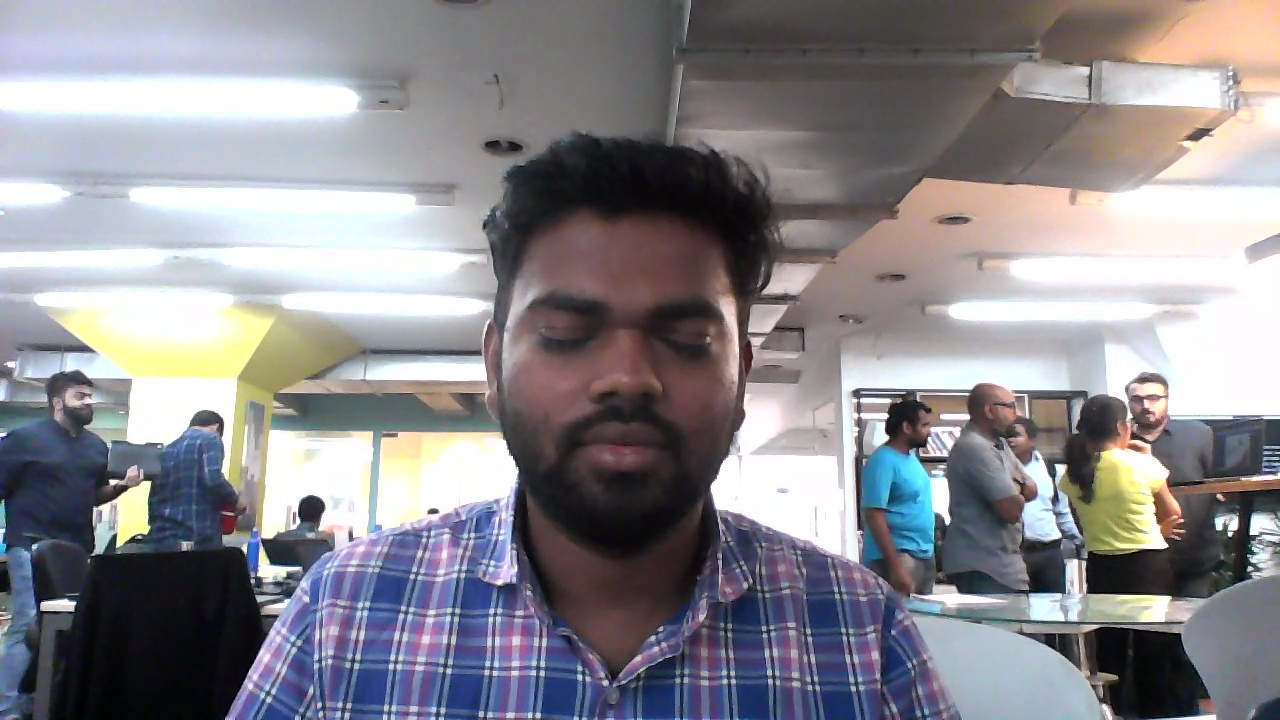closed: (479, 134, 757, 550)
